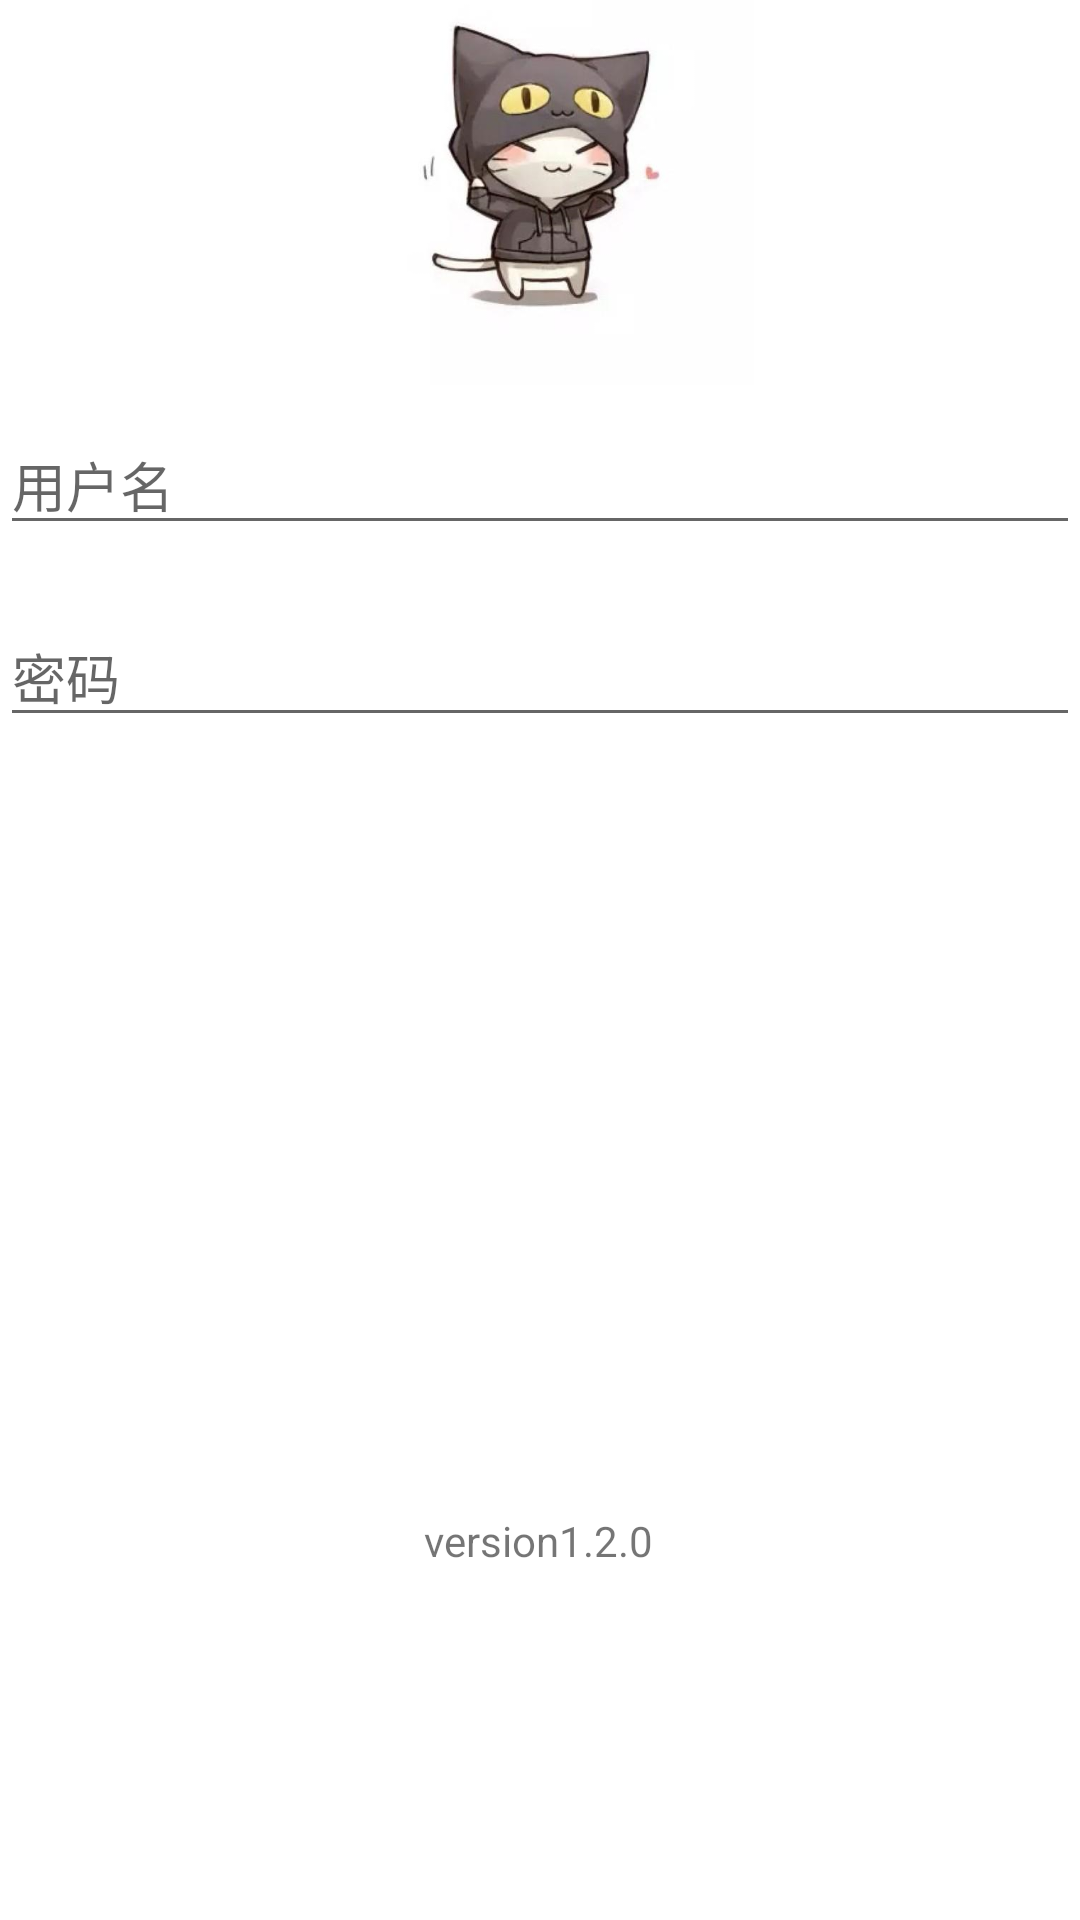

Locate icon controls on the screen. Image size 1080 × 1920, boxes as [left=x1, top=y1, right=x2, bottom=y2].
mao: [left=423, top=25, right=660, bottom=307]
